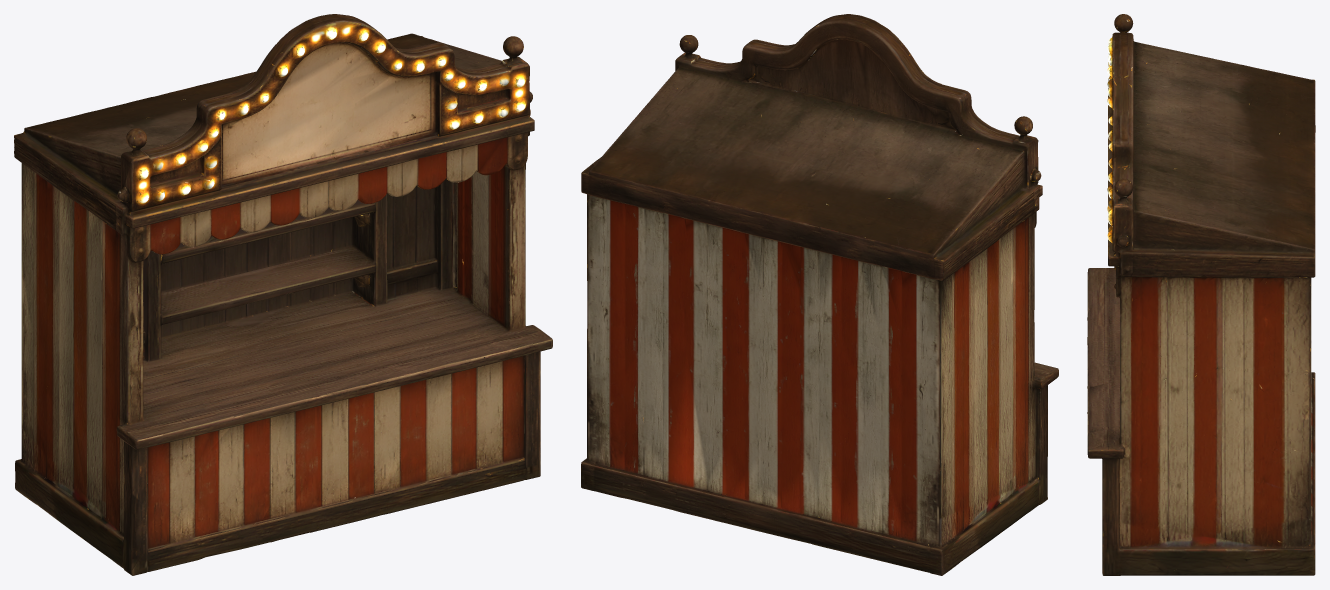
File: Meshy_AI_Vintage_Carnival_Boot_0512195231_texture.fbx
3 renders of one model, left to right at view 1: azimuth 30°, elevation 25°; view 2: azimuth 150°, elevation 25°; view 3: azimuth 270°, elevation 25°, orthographic. The views are drawn at different scales.
Visible parts, largest first — view 1: Mesh_0; view 2: Mesh_0; view 3: Mesh_0.
Boxes of the visible parts, x1,y1,x2,y2 form: Mesh_0: (14,14,552,575); Mesh_0: (581,14,1058,575); Mesh_0: (1087,14,1315,575).
Bounding box in the file's own units: 167 × 191 × 88.14.
Materials: 1 (1 with a texture image).
